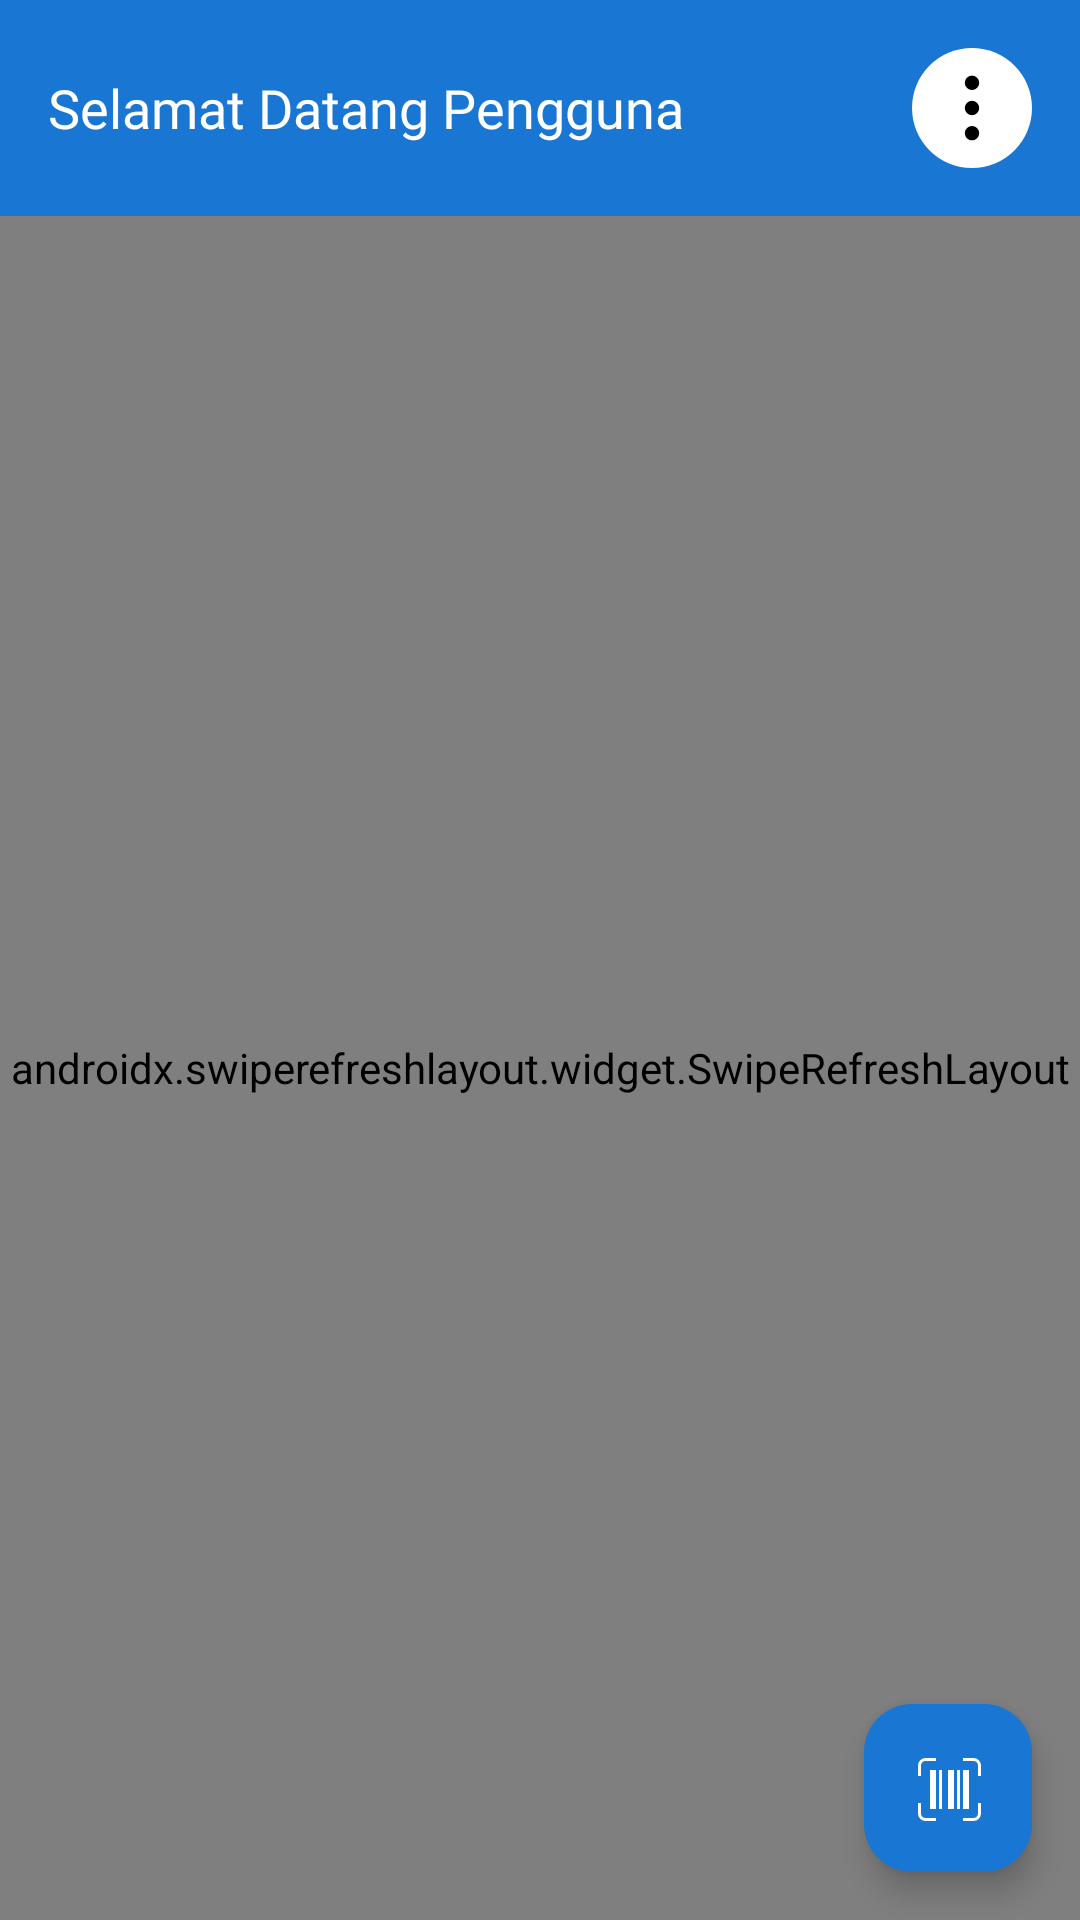

Where to tap for icons on this 1080px×1920px app screen, as (x,y):
Button for dropdown menu: (972,108)
Scan Pengembalian: (948,1788)
